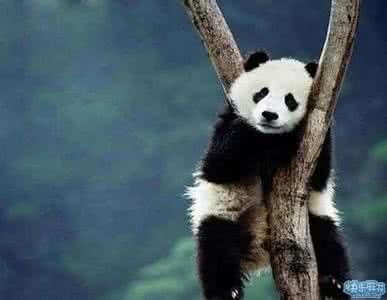panda: (186, 36, 356, 300)
